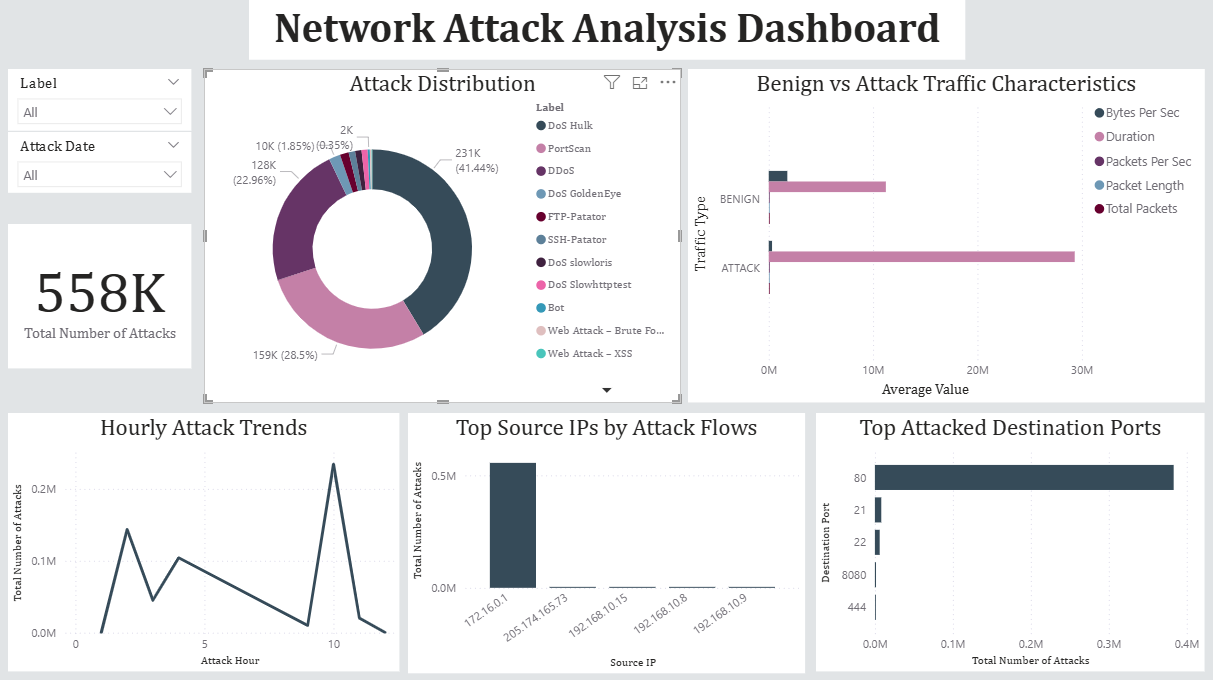

The page's visual inventory and layout, read from the dashboard file:
{"tool":"powerbi","page":{"name":"Page 1","canvas":[1280,720],"ordinal":0},"visuals":[{"type":"donutChart","title":"Attack Distribution","fields":{"Y":["Sum(Most_Frequent_Attack_Types.AttackCount)"],"Category":["Most_Frequent_Attack_Types.Label"]},"box":[215.8,75.2,502.4,351],"z":0},{"type":"slicer","fields":{"Values":["Most_Frequent_Attack_Types.Label"]},"box":[9.9,75.2,193.4,65.4],"z":1000},{"type":"slicer","fields":{"Values":["Most_Frequent_Attack_Types.AttackDate"]},"box":[9.9,140.6,193.4,64.5],"z":2000},{"type":"card","fields":{"Values":["Sum(Most_Frequent_Attack_Types.AttackCount)"]},"box":[9.9,238.2,193.4,152.2],"z":3000},{"type":"columnChart","title":"Top Source IPs by Attack Flows","fields":{"Y":["Sum(Top_Source_IPs_Responsible_for_Attacks.AttackFlows)"],"Category":["Top_Source_IPs_Responsible_for_Attacks.Source IP"]},"box":[430.7,437,418.2,274],"z":4000},{"type":"barChart","title":"Top Attacked Destination Ports","fields":{"Category":["Targeted_Ports.Destination Port"],"Y":["Sum(Targeted_Ports.AttackCount)"]},"box":[859.7,437,409.3,272.2],"z":5000},{"type":"lineChart","title":"Hourly Attack Trends","fields":{"Y":["Sum(Attack_Timeline_Per_Day_and_Hour.AttackCount)"],"Category":["Attack_Timeline_Per_Day_and_Hour.AttackHour"]},"box":[9.9,437,411.9,272.2],"z":6000},{"type":"clusteredBarChart","title":"Benign vs Attack Traffic Characteristics","fields":{"Y":["Sum(Benign_vs_Attack_Traffic_Characteristics.AvgBytesPerSec)","Sum(Benign_vs_Attack_Traffic_Characteristics.AvgDuration)","Sum(Benign_vs_Attack_Traffic_Characteristics.AvgPacketsPerSec)","Sum(Benign_vs_Attack_Traffic_Characteristics.AvgPktLen)","Sum(Benign_vs_Attack_Traffic_Characteristics.AvgTotalPackets)"],"Category":["Benign_vs_Attack_Traffic_Characteristics.TrafficType"]},"box":[725.4,75.2,543.6,351],"z":7000},{"type":"textbox","box":[263.2,0,753.7,65.3],"z":8000}]}

Visuals, with their boxes in screenshot pixels (x1, y1, x2, y2), scaled from the page's 1280x720 canvas onto the 1213x680 screenshot:
"Attack Distribution" donutChart: 205 71 681 403
slicer - Most_Frequent_Attack_Types.Label: 9 71 193 133
slicer - Most_Frequent_Attack_Types.AttackDate: 9 133 193 194
card - Sum(Most_Frequent_Attack_Types.AttackCount): 9 225 193 369
"Top Source IPs by Attack Flows" columnChart: 408 413 804 672
"Top Attacked Destination Ports" barChart: 815 413 1203 670
"Hourly Attack Trends" lineChart: 9 413 400 670
"Benign vs Attack Traffic Characteristics" clusteredBarChart: 687 71 1203 403
textbox: 249 0 964 62
